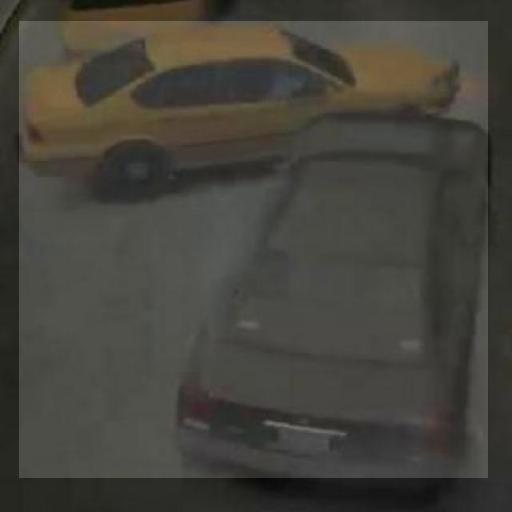小汽车撞小汽车: (19, 21, 488, 478)
